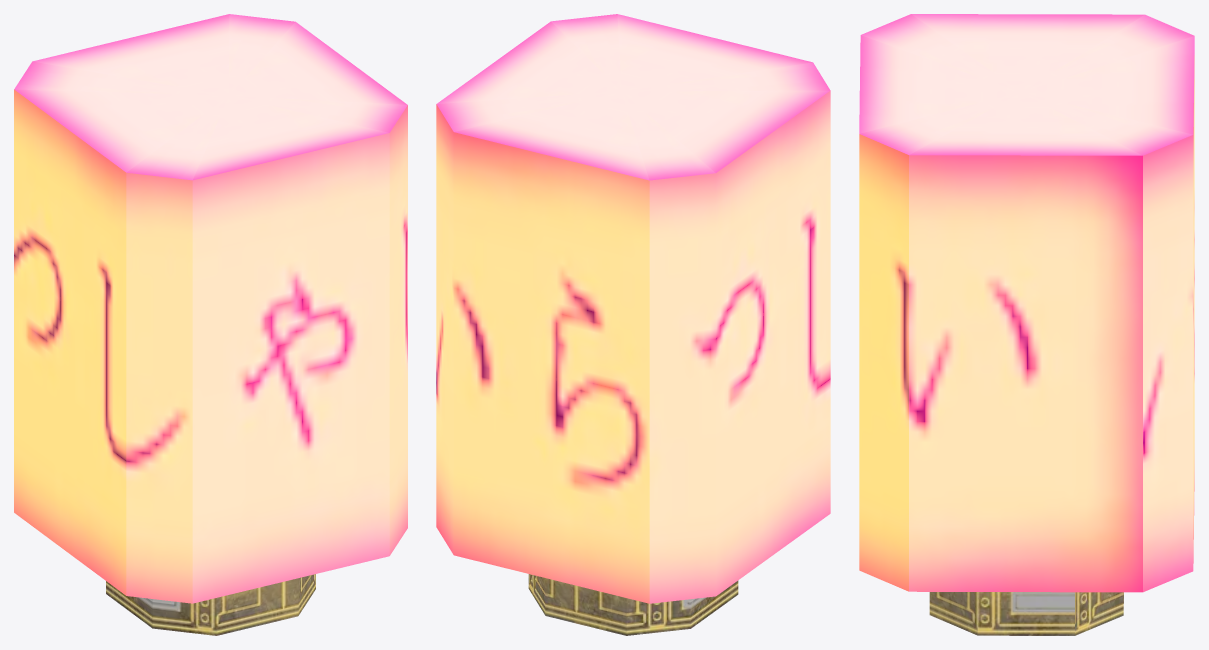
The model's file is japanese-sign-03.glb.
3 views of the same model, side by side, from view 1: azimuth 30°, elevation 25°; view 2: azimuth 150°, elevation 25°; view 3: azimuth 270°, elevation 25° (orthographic). The views are drawn at different scales.
Visible parts, largest first — view 1: Japanese_Sign_03; view 2: Japanese_Sign_03; view 3: Japanese_Sign_03.
Part boxes in pixels (x1=…): Japanese_Sign_03: x1=14, y1=14, x2=407, y2=635; Japanese_Sign_03: x1=436, y1=14, x2=830, y2=635; Japanese_Sign_03: x1=859, y1=14, x2=1194, y2=635.
Size of the model in its own units: 0.2842 by 0.4766 by 0.2842.
2 materials, 1 textured.
